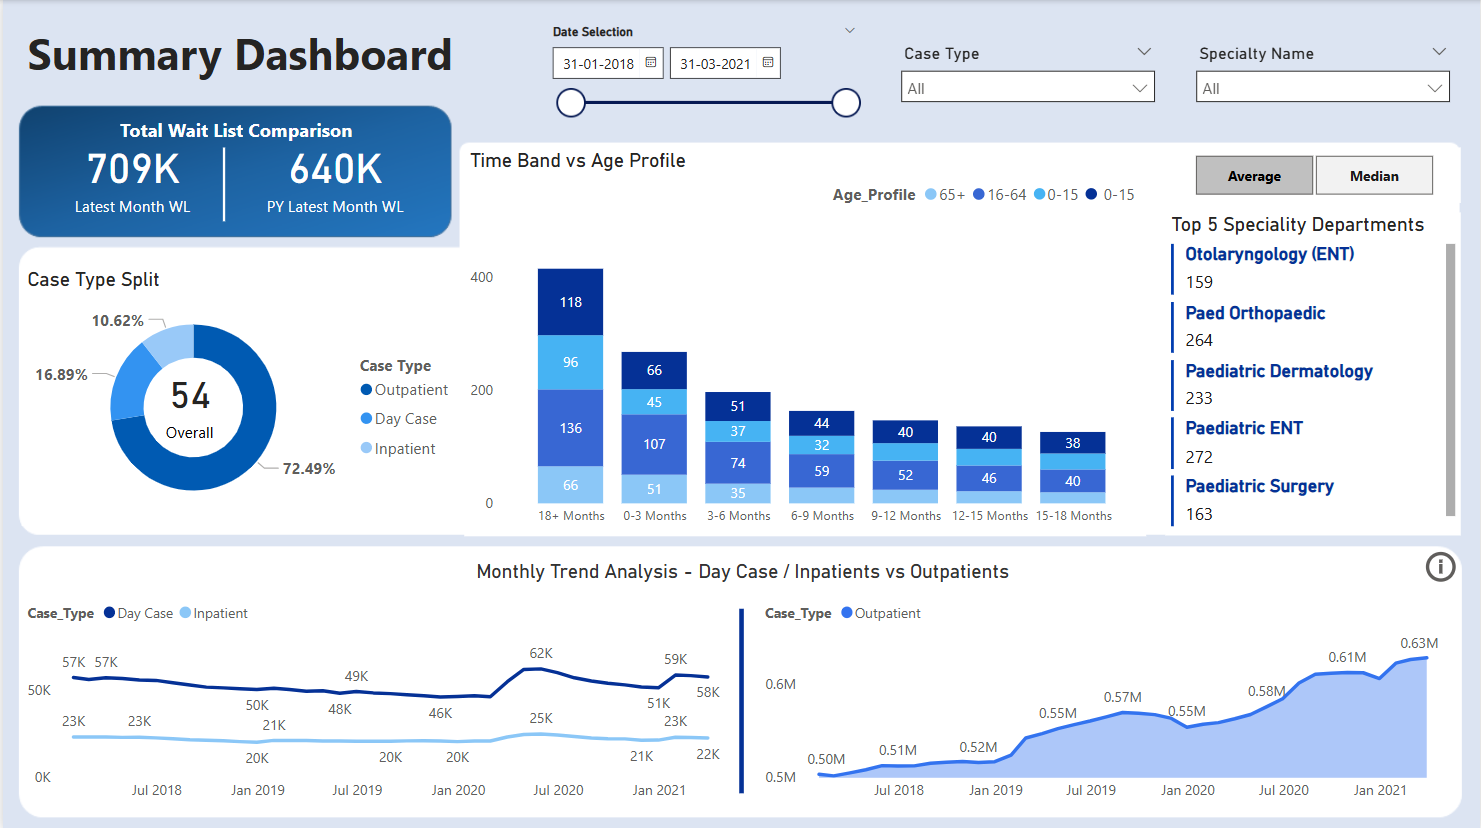

Layout of this report page (visuals, bound fields, positions):
{"tool":"powerbi","page":{"name":"Summary","canvas":[1280,720],"ordinal":0},"visuals":[{"type":"card","fields":{"Values":["All Data.Latest Month WL"]},"box":[32,112,160,80],"z":0},{"type":"card","fields":{"Values":["All Data.PY Latest Month WL"]},"box":[208,112,160,80],"z":1000},{"type":"slicer","fields":{"Values":["Calc Method.Calc Method"]},"box":[1008,128,256,48],"z":2000},{"type":"donutChart","title":"Case Type Split","fields":{"Category":["All Data.Case_Type"],"Y":["All Data.Avg/Med WL"]},"box":[16,232,384,224],"z":3000},{"type":"columnChart","title":"Time Band vs Age Profile","fields":{"Y":["All Data.Avg/Med WL"],"Category":["All Data.Time_Bands"],"Series":["All Data.Age_Profile"]},"box":[400,128.6,591.4,335.7],"z":4000},{"type":"multiRowCard","title":"Top 5 Speciality Departments","fields":{"Values":["All Data.Speciality_Name","All Data.Avg/Med WL"]},"box":[1008,184,256,280],"z":5000},{"type":"card","fields":{"Values":["All Data.NoDataLeft"]},"box":[178.6,552.9,282.9,92.9],"z":5500},{"type":"lineChart","fields":{"Y":["Sum(All Data.Total)"],"Series":["All Data.Case_Type"],"Category":["All Data.Archive_Date"]},"box":[16,512,624,192],"z":6000},{"type":"card","fields":{"Values":["All Data.NoData"]},"box":[818.6,552.9,282.9,92.9],"z":7000},{"type":"lineChart","fields":{"Y":["Sum(All Data.Total)"],"Series":["All Data.Case_Type"],"Category":["All Data.Archive_Date"]},"box":[656,512,608,192],"z":8000},{"type":"slicer","fields":{"Values":["All Data.Archive_Date"]},"box":[464,16,288,96],"z":9000},{"type":"slicer","fields":{"Values":["All Data.Case_Type"]},"box":[768,32,240,80],"z":10000},{"type":"slicer","fields":{"Values":["All Data.Specialty_Name"]},"box":[1024,32,240,80],"z":11000},{"type":"textbox","box":[16,16,400,64],"z":12000},{"type":"shape","box":[112,128,160,64],"z":13000},{"type":"shape","box":[560,528,160,160],"z":14000},{"type":"textbox","box":[96,96,224,32],"z":15000},{"type":"textbox","box":[352.9,480,575.7,48.6],"z":16000},{"type":"card","fields":{"Values":["All Data.Avg/Med WL"]},"box":[121.9,308.8,81.2,80],"z":17000},{"type":"actionButton","box":[1228.6,471.4,35.7,40],"z":19000}]}

Visuals, with their boxes in screenshot pixels (x1, y1, x2, y2), scaled from the page's 1280x720 canvas onto the 1481x828 screenshot:
card - All Data.Latest Month WL: rect(37, 129, 222, 221)
card - All Data.PY Latest Month WL: rect(241, 129, 426, 221)
slicer - Calc Method.Calc Method: rect(1166, 147, 1462, 202)
"Case Type Split" donutChart: rect(19, 267, 463, 524)
"Time Band vs Age Profile" columnChart: rect(463, 148, 1147, 534)
"Top 5 Speciality Departments" multiRowCard: rect(1166, 212, 1462, 534)
card - All Data.NoDataLeft: rect(207, 636, 534, 743)
lineChart - Sum(All Data.Total) x All Data.Case_Type: rect(19, 589, 740, 810)
card - All Data.NoData: rect(947, 636, 1274, 743)
lineChart - Sum(All Data.Total) x All Data.Case_Type: rect(759, 589, 1462, 810)
slicer - All Data.Archive_Date: rect(537, 18, 870, 129)
slicer - All Data.Case_Type: rect(889, 37, 1166, 129)
slicer - All Data.Specialty_Name: rect(1185, 37, 1462, 129)
textbox: rect(19, 18, 481, 92)
shape: rect(130, 147, 315, 221)
shape: rect(648, 607, 833, 791)
textbox: rect(111, 110, 370, 147)
textbox: rect(408, 552, 1074, 608)
card - All Data.Avg/Med WL: rect(141, 355, 235, 447)
actionButton: rect(1422, 542, 1463, 588)
